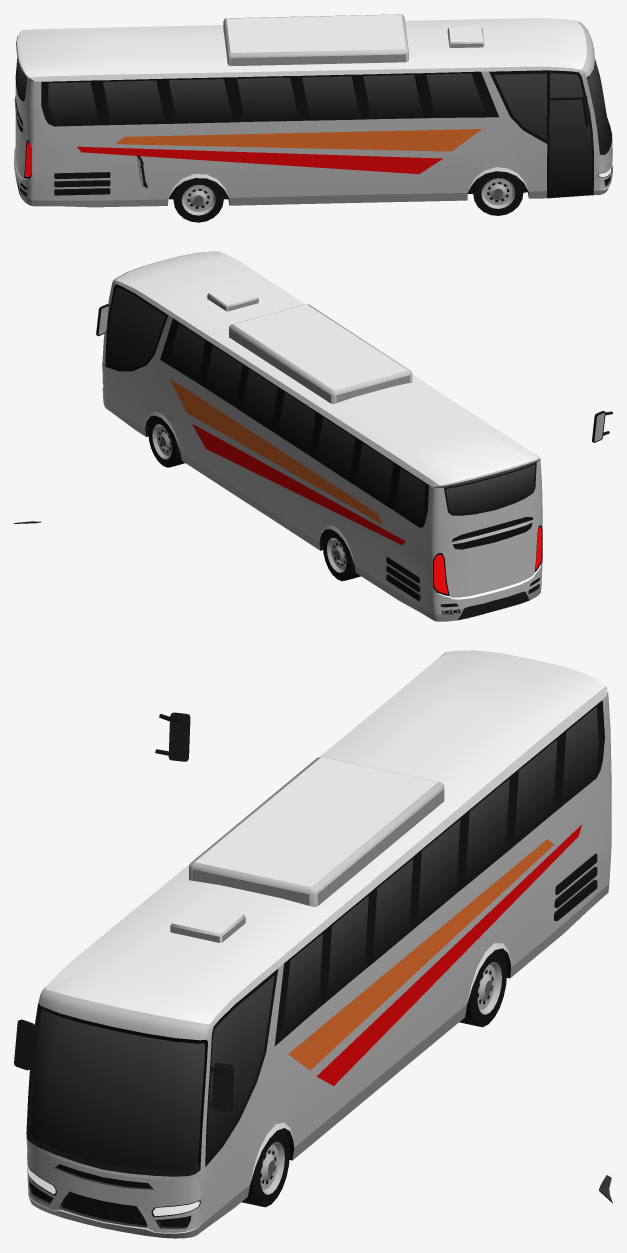
File: Truck_001.glb
3 views of the same model, one above another, from view 1: azimuth 30°, elevation 25°; view 2: azimuth 150°, elevation 25°; view 3: azimuth 270°, elevation 25° (orthographic). The views are drawn at different scales.
Parts seen in each view (by area): view 1: Truck_001, wheel_1_Truck_001_Wheel_2R, wheel_3_Truck_001_Wheel_4L; view 2: Truck_001, wheel_0_Truck_001_Wheel_1R, wheel_2_Truck_001_Wheel_3L; view 3: Truck_001, wheel_0_Truck_001_Wheel_1R, wheel_2_Truck_001_Wheel_3L.
Boxes of the visible parts, <box> form: Truck_001: <box>14,14,612,207</box>; wheel_1_Truck_001_Wheel_2R: <box>472,171,523,215</box>; wheel_3_Truck_001_Wheel_4L: <box>172,178,223,222</box>; Truck_001: <box>14,251,612,621</box>; wheel_0_Truck_001_Wheel_1R: <box>148,416,185,467</box>; wheel_2_Truck_001_Wheel_3L: <box>323,529,360,581</box>; Truck_001: <box>14,650,612,1238</box>; wheel_0_Truck_001_Wheel_1R: <box>241,1129,289,1207</box>; wheel_2_Truck_001_Wheel_3L: <box>459,949,506,1027</box>.
Bounding box in the file's own units: 10.87 × 3.41 × 7.21.
3 materials, 3 textured.
